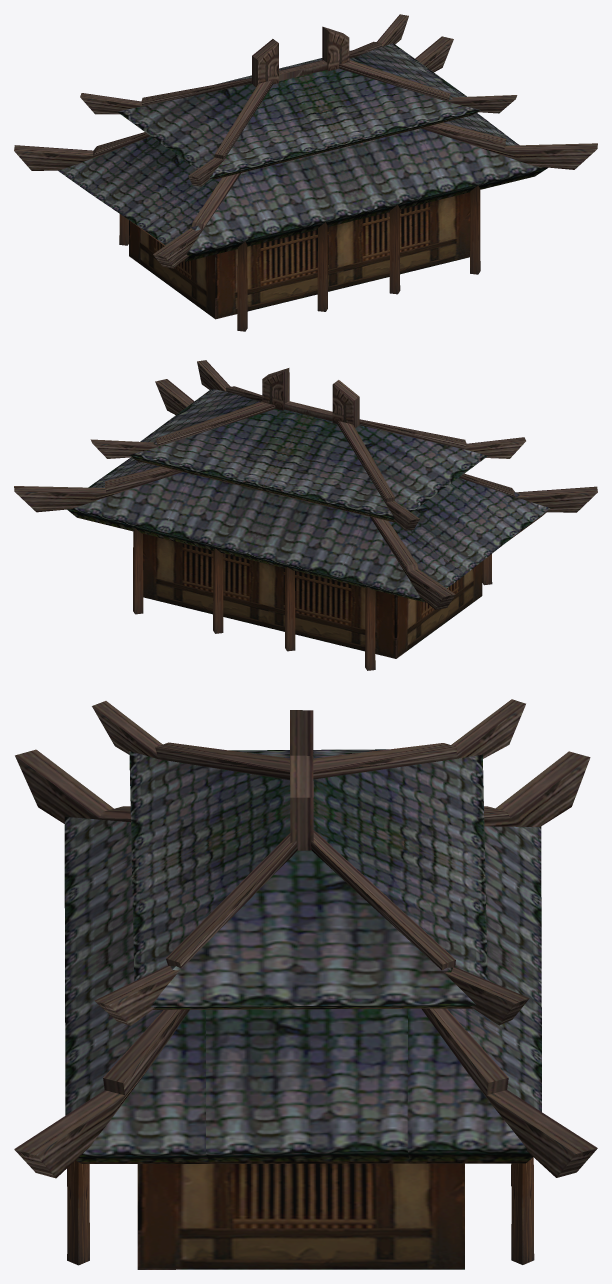
File: oBldShipT02.FBX
3 renders of one model, top to bottom at view 1: azimuth 30°, elevation 25°; view 2: azimuth 150°, elevation 25°; view 3: azimuth 270°, elevation 25°, orthographic. The views are drawn at different scales.
Visible parts, largest first — view 1: oBldShipT02; view 2: oBldShipT02; view 3: oBldShipT02.
Boxes of the visible parts, x1,y1,x2,y2 form: oBldShipT02: (14, 14, 597, 331); oBldShipT02: (14, 360, 597, 670); oBldShipT02: (14, 699, 597, 1269).
Bounding box in the file's own units: 148 × 70.6 × 88.73.
1 material, 1 textured.
